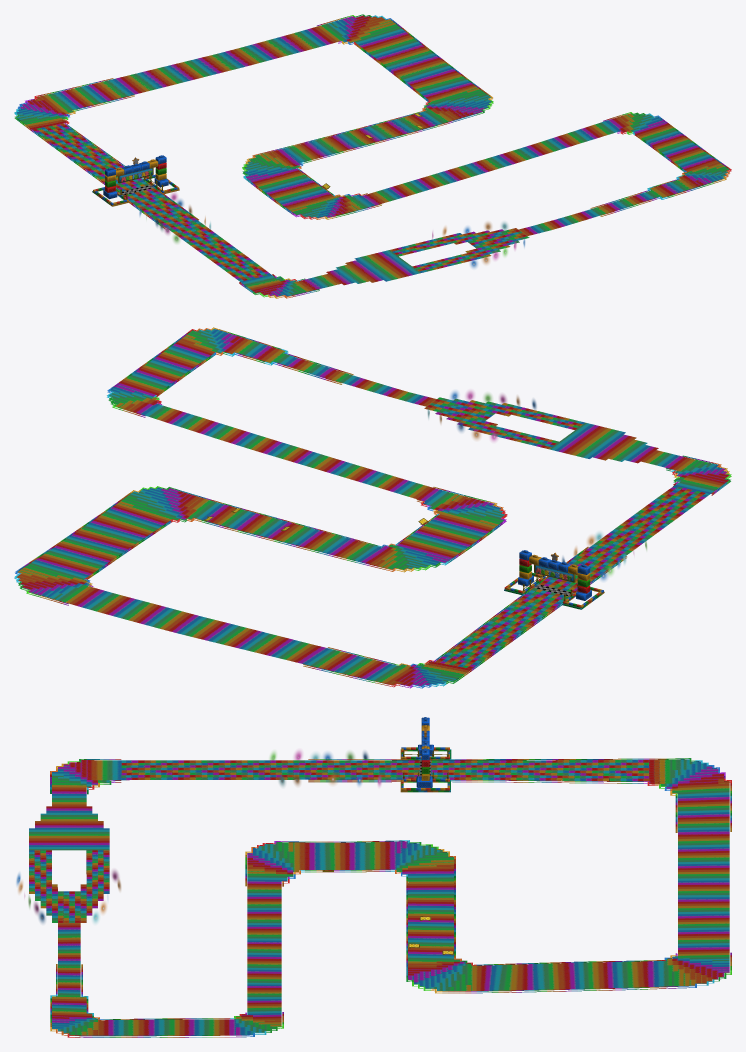
Rendered from track.glb.
The picture shows the model from 3 angles, top to bottom: view 1: azimuth 30°, elevation 25°; view 2: azimuth 150°, elevation 25°; view 3: azimuth 270°, elevation 25°; orthographic projection. The views are drawn at different scales.
Visible parts, largest first — view 1: road2__Dsfc_RR_CubeMapRoad, Gate_R70__Dsfc_R_tairuhuti, LGate_U300__Dsfc_gateBlockA, HUTIUP14__Dsfc_R_tairuhutinaname, CubeMaplight010__Dsfc_CubeMap_light; view 2: road2__Dsfc_RR_CubeMapRoad, Gate_R70__Dsfc_R_tairuhuti, LGate_U300__Dsfc_gateBlockA, HUTIUP14__Dsfc_R_tairuhutinaname, CubeMaplight010__Dsfc_CubeMap_light; view 3: road2__Dsfc_RR_CubeMapRoad, Gate_R70__Dsfc_R_tairuhuti, HUTIUP14__Dsfc_R_tairuhutinaname, LGate_U300__Dsfc_gateBlockA, CubeMaplight010__Dsfc_CubeMap_light.
Boxes of the visible parts, box(x1,y1,x2,y2) form: road2__Dsfc_RR_CubeMapRoad: box(16, 15, 729, 296); Gate_R70__Dsfc_R_tairuhuti: box(17, 16, 728, 297); LGate_U300__Dsfc_gateBlockA: box(93, 155, 179, 205); HUTIUP14__Dsfc_R_tairuhutinaname: box(14, 14, 731, 298); CubeMaplight010__Dsfc_CubeMap_light: box(139, 193, 525, 268); road2__Dsfc_RR_CubeMapRoad: box(17, 328, 729, 686); Gate_R70__Dsfc_R_tairuhuti: box(18, 329, 728, 686); LGate_U300__Dsfc_gateBlockA: box(504, 550, 603, 607); HUTIUP14__Dsfc_R_tairuhutinaname: box(14, 327, 731, 688); CubeMaplight010__Dsfc_CubeMap_light: box(427, 390, 646, 580); road2__Dsfc_RR_CubeMapRoad: box(29, 759, 729, 1035); Gate_R70__Dsfc_R_tairuhuti: box(50, 749, 731, 1037); HUTIUP14__Dsfc_R_tairuhutinaname: box(50, 758, 731, 1037); LGate_U300__Dsfc_gateBlockA: box(401, 717, 449, 790); CubeMaplight010__Dsfc_CubeMap_light: box(16, 750, 381, 923).
Size of the model in its own units: 103 by 8.3 by 103.
Materials: 15 (15 with a texture image).
